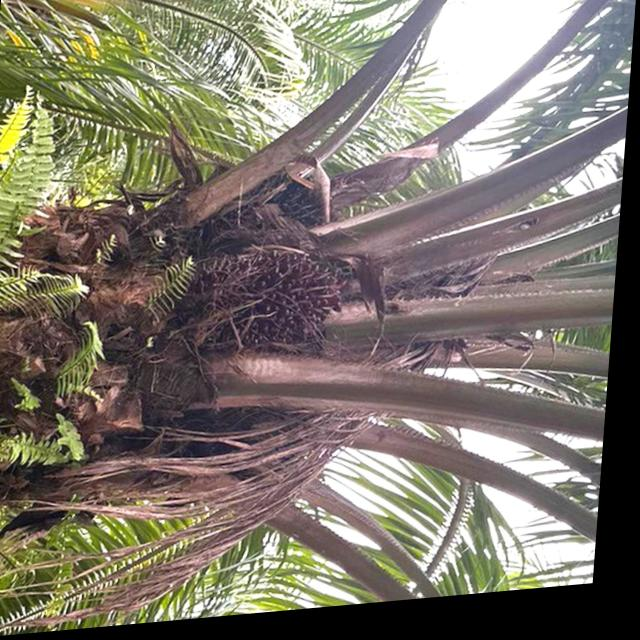ripe: (182, 248, 357, 378)
